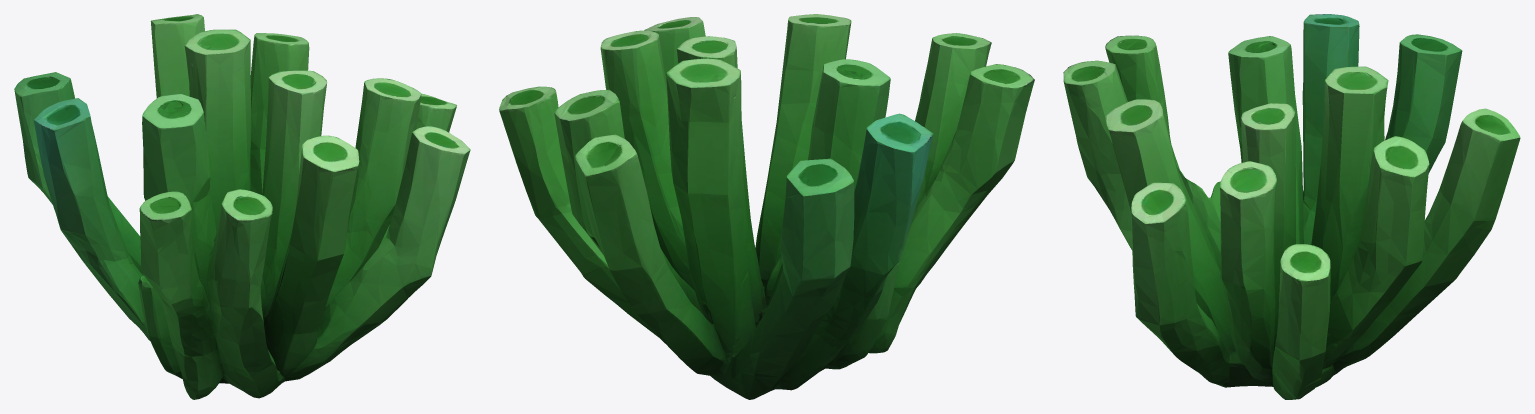
File: succulent_cluster.glb
The picture shows the model from 3 angles, left to right: view 1: azimuth 30°, elevation 25°; view 2: azimuth 150°, elevation 25°; view 3: azimuth 270°, elevation 25°; orthographic projection. The views are drawn at different scales.
Parts seen in each view (by area): view 1: world; view 2: world; view 3: world.
Part boxes in pixels (x1,y1,x2,y2): world: (14, 14, 470, 399); world: (499, 14, 1034, 399); world: (1063, 14, 1520, 399).
Size of the model in its own units: 1 by 0.7054 by 0.971.
Materials: 1 (1 with a texture image).
